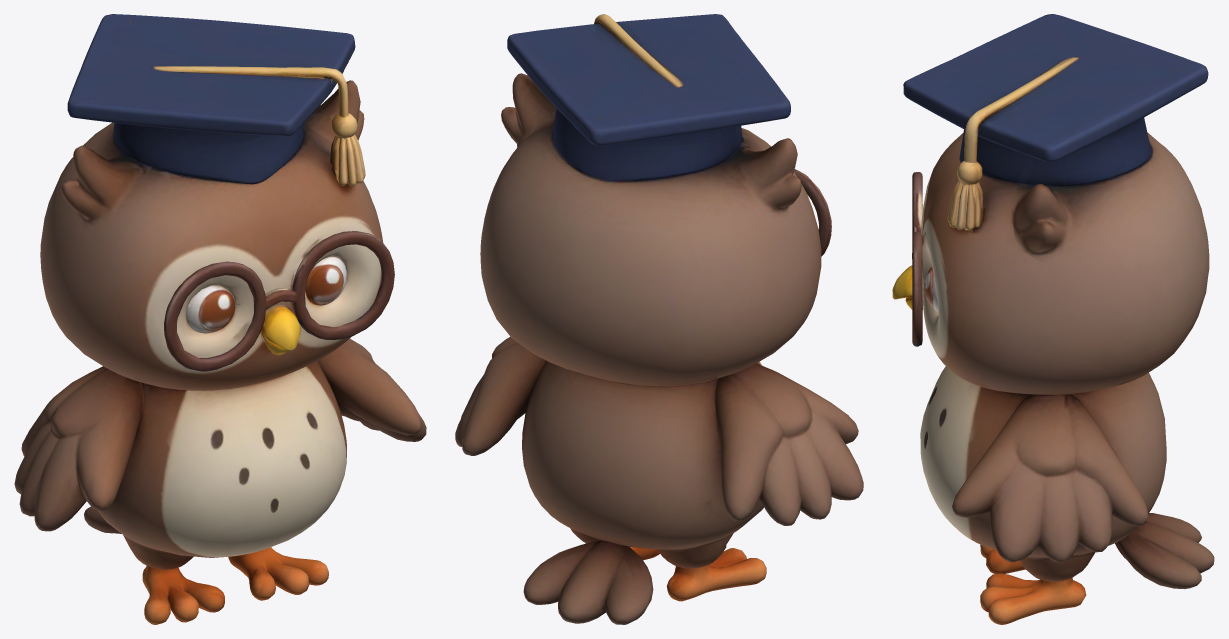
File: npc_owl.glb
3 views of the same model, side by side, from view 1: azimuth 30°, elevation 25°; view 2: azimuth 150°, elevation 25°; view 3: azimuth 270°, elevation 25° (orthographic). The views are drawn at different scales.
Visible parts, largest first — view 1: node_0; view 2: node_0; view 3: node_0.
Part boxes in pixels (<box>): node_0: <box>14,14,426,624</box>; node_0: <box>455,14,863,624</box>; node_0: <box>892,14,1214,624</box>.
Size of the model in its own units: 0.8268 by 1.07 by 0.6097.
Materials: 1 (1 with a texture image).
